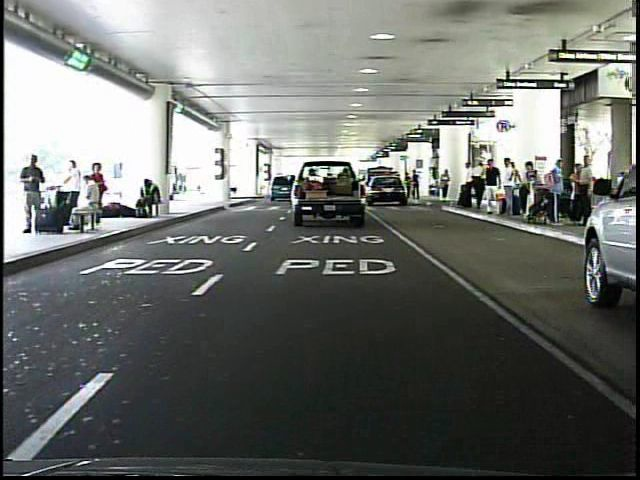person: (22, 152, 52, 240), (478, 155, 504, 224), (500, 156, 520, 220), (458, 156, 479, 212), (438, 166, 454, 205), (412, 169, 422, 203), (403, 170, 413, 202)
